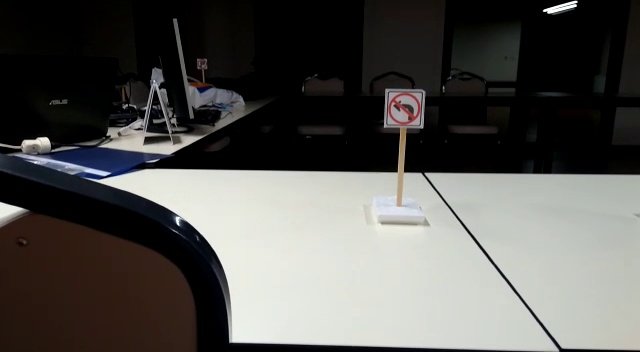sola_donulmez: (386, 88, 425, 126)
